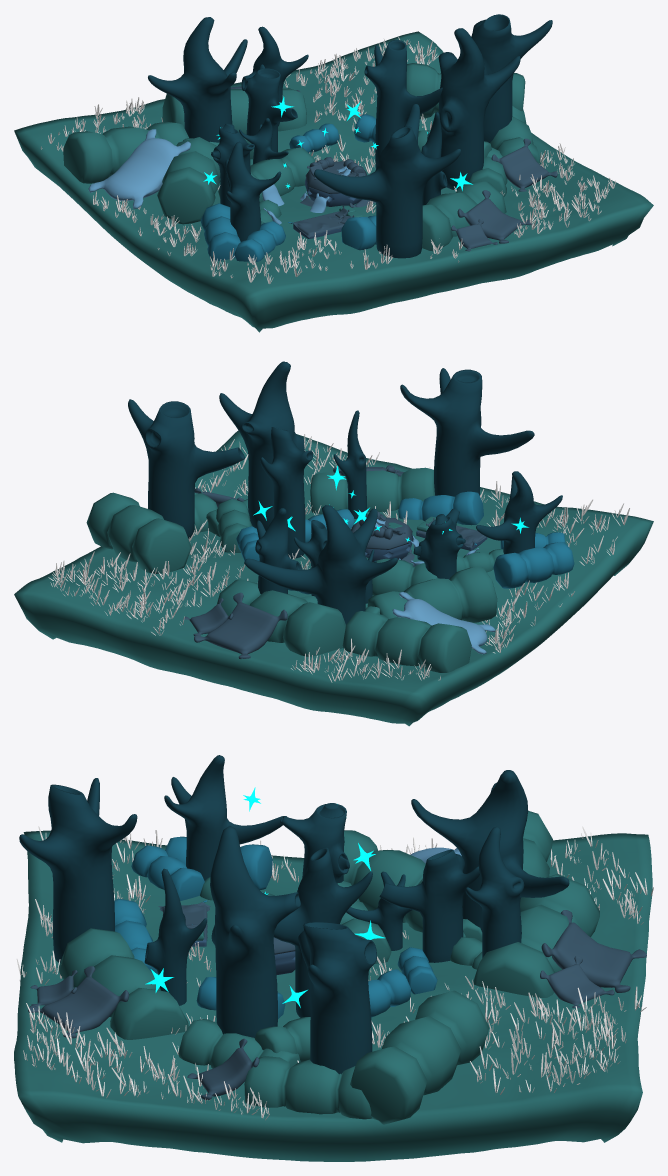
3 views of the same model, one above another, from view 1: azimuth 30°, elevation 25°; view 2: azimuth 150°, elevation 25°; view 3: azimuth 270°, elevation 25° (orthographic). The views are drawn at different scales.
Visible parts, largest first — view 1: Dirt_5, trees_3, Pillow_4, Grass_6, Bed_0, Stand_2, Stars_1; view 2: Dirt_5, Pillow_4, trees_3, Grass_6, Stand_2, Bed_0, Stars_1; view 3: Dirt_5, trees_3, Pillow_4, Grass_6, Stars_1, Bed_0, Stand_2.
Part boxes in pixels (bbox=[...]): Dirt_5: bbox=[14, 31, 653, 332]; trees_3: bbox=[148, 14, 552, 258]; Pillow_4: bbox=[63, 63, 557, 261]; Grass_6: bbox=[40, 37, 615, 283]; Bed_0: bbox=[288, 206, 362, 238]; Stand_2: bbox=[305, 161, 366, 206]; Stars_1: bbox=[203, 96, 472, 190]; Dirt_5: bbox=[14, 430, 653, 726]; Pillow_4: bbox=[86, 465, 574, 672]; trees_3: bbox=[128, 361, 562, 624]; Grass_6: bbox=[48, 432, 629, 682]; Stand_2: bbox=[351, 517, 413, 562]; Bed_0: bbox=[416, 516, 487, 550]; Stars_1: bbox=[253, 465, 528, 541]; Dirt_5: bbox=[14, 830, 652, 1161]; trees_3: bbox=[19, 755, 569, 1074]; Pillow_4: bbox=[28, 811, 646, 1124]; Grass_6: bbox=[16, 826, 653, 1120]; Stars_1: bbox=[145, 787, 385, 1007]; Bed_0: bbox=[158, 900, 210, 946]; Stand_2: bbox=[273, 937, 295, 974].
Size of the model in its own units: 109 by 52.21 by 108.
